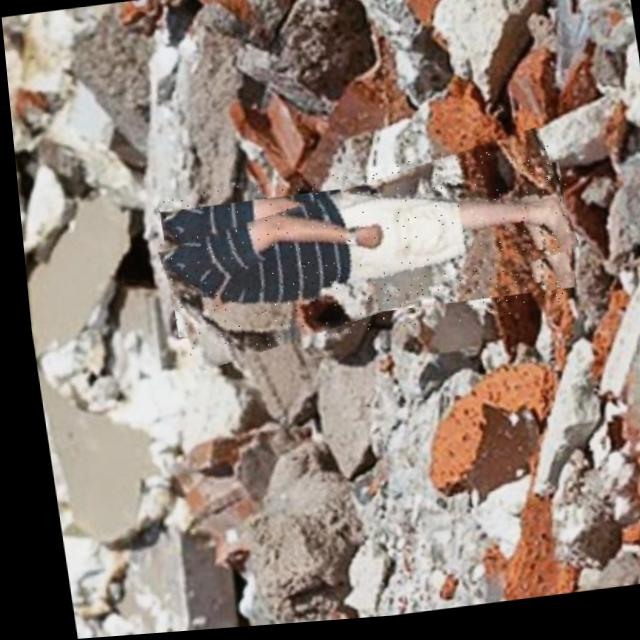Person in Rubble: (147, 149, 578, 359)
